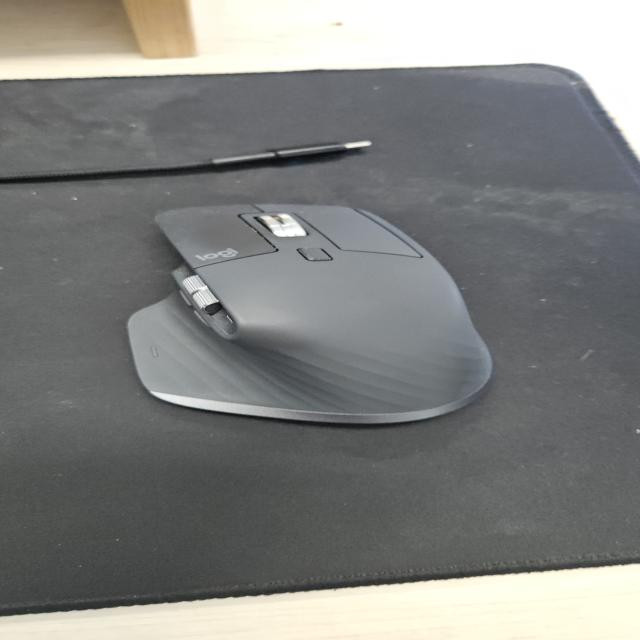Mouse: (124, 200, 497, 426)
